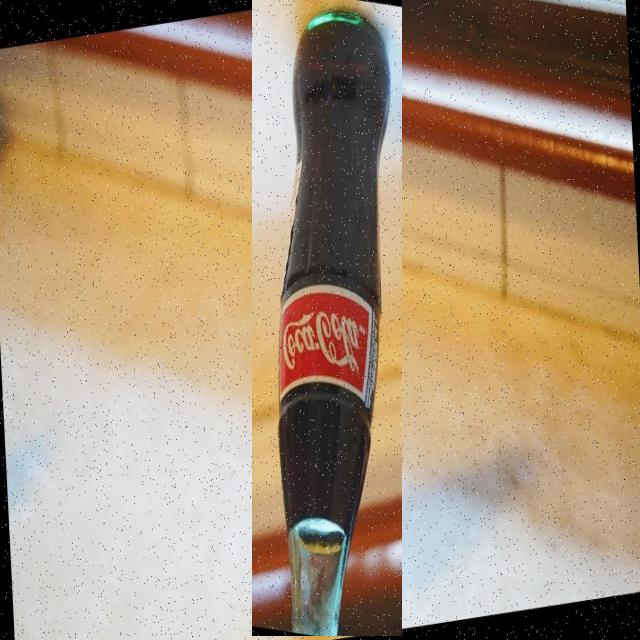coca-cola: (252, 0, 402, 636)
